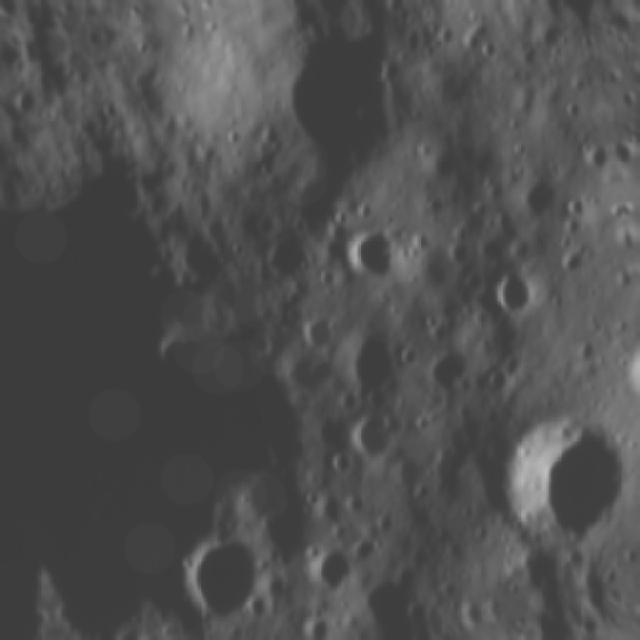crater: (486, 393, 640, 550), (172, 519, 286, 627), (331, 334, 406, 411), (338, 220, 409, 288), (356, 577, 430, 635), (504, 170, 571, 233), (518, 539, 585, 601), (418, 344, 480, 408), (347, 408, 407, 474), (258, 230, 319, 290), (298, 546, 359, 606), (492, 266, 542, 328), (292, 307, 342, 358), (442, 236, 483, 278), (10, 86, 52, 126), (576, 142, 616, 182), (476, 232, 515, 271), (244, 589, 281, 628), (327, 449, 362, 485), (128, 632, 180, 640)
